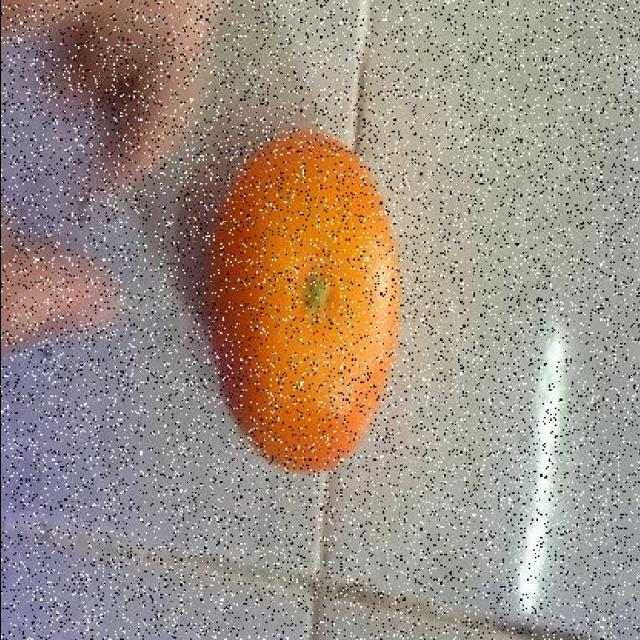Orange: (200, 126, 403, 474)
